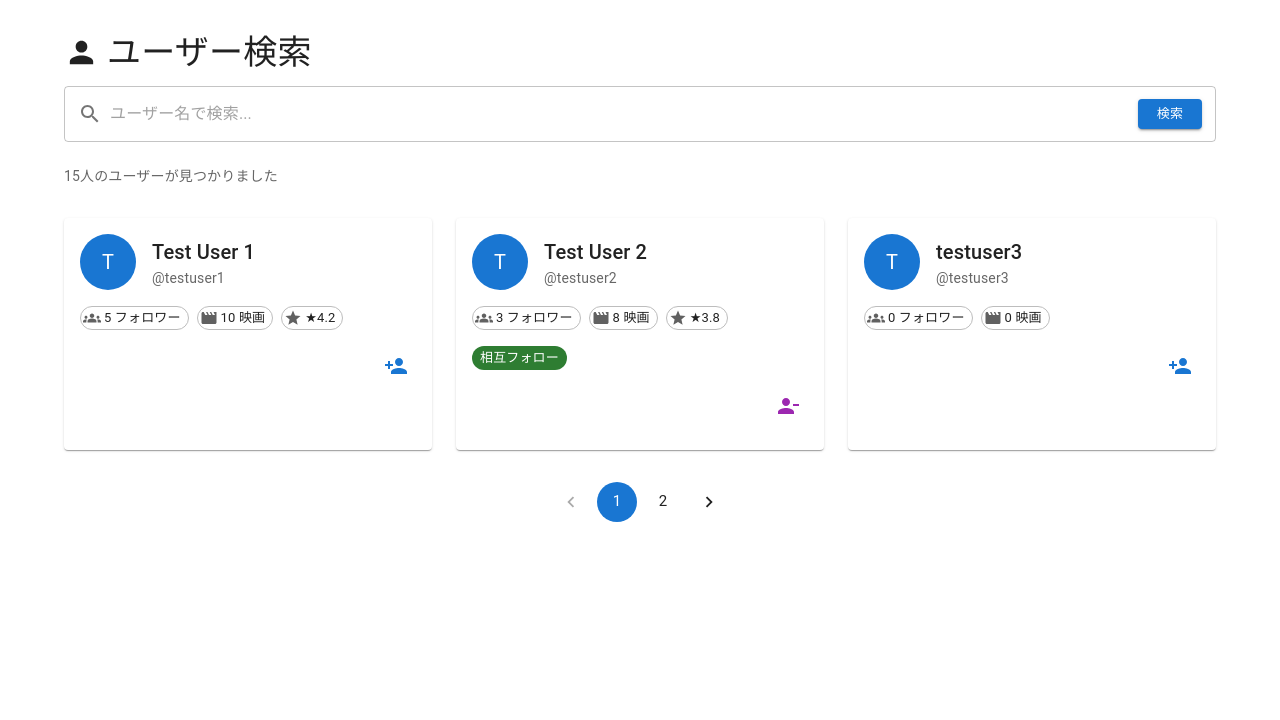
Test: UserSearch › handles follow API error
This screenshot has width=1280, height=720.
expect the heading "Test User 1" is shown: met, box [152, 240, 255, 264]
Click the button named "フォロー" below "5 フォロワー". click: (396, 366)
box: [376, 346, 416, 386]
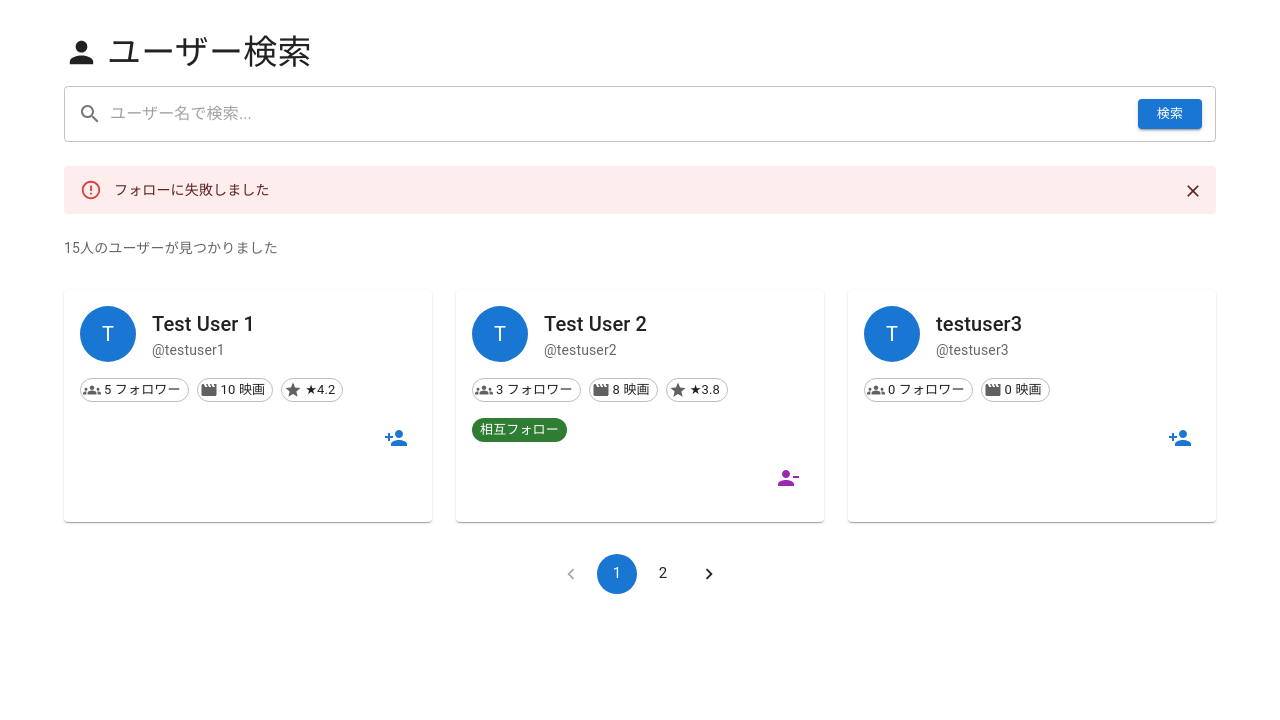
expect the text "フォローに失敗しました" is shown: met, box [114, 182, 270, 198]
